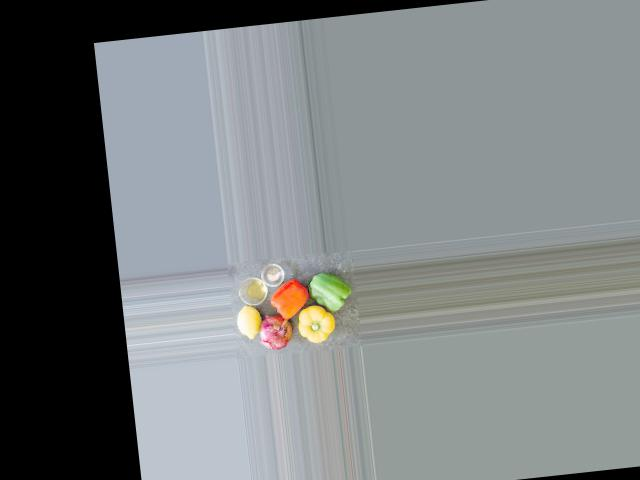bell_pepper: (268, 276, 310, 321)
